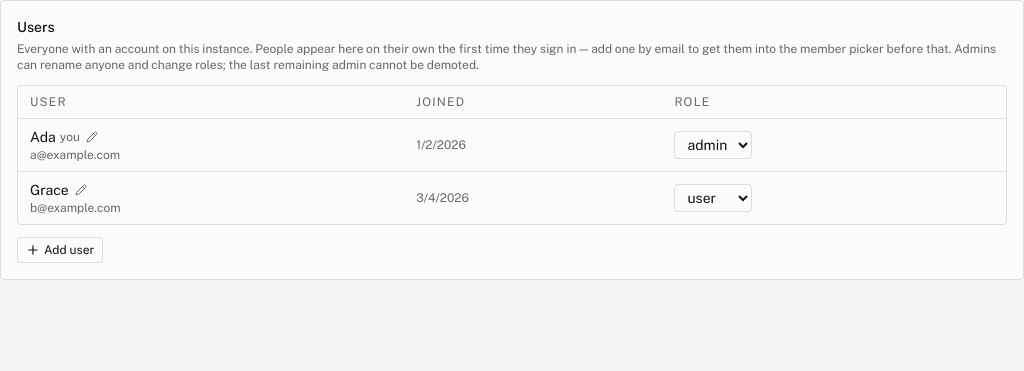
Test: adding a user › explains a duplicate address in plain language
Expected: the text "Ada" is shown, [30, 127, 56, 147]
Click the button "Add user" at coordinates (60, 250), box [17, 237, 103, 263]
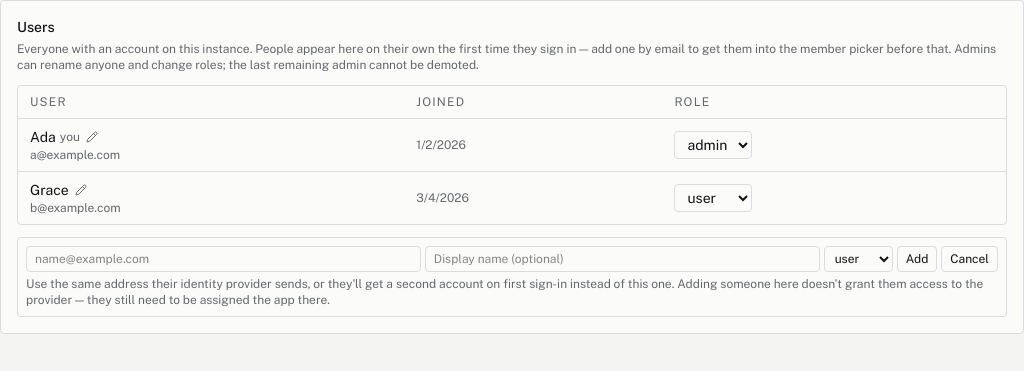
Type "b@example.com" into the field named "email address for the new user" at coordinates (223, 259), box [26, 246, 421, 272]
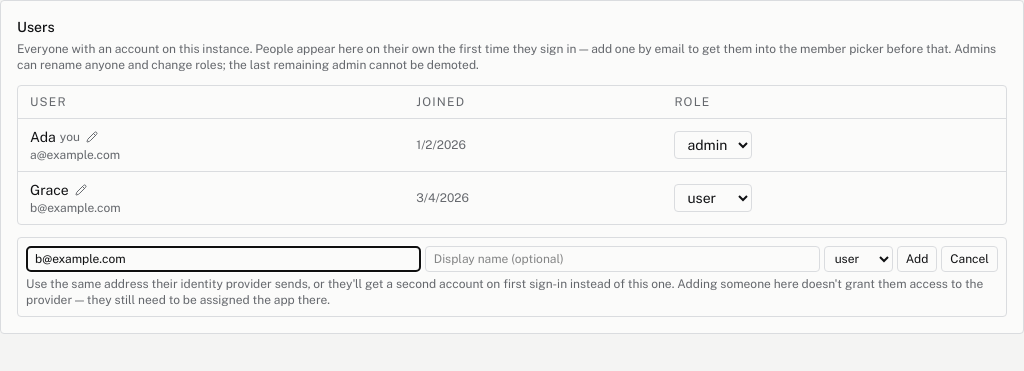
Click the button "Add" at coordinates (917, 259), box [897, 246, 937, 272]
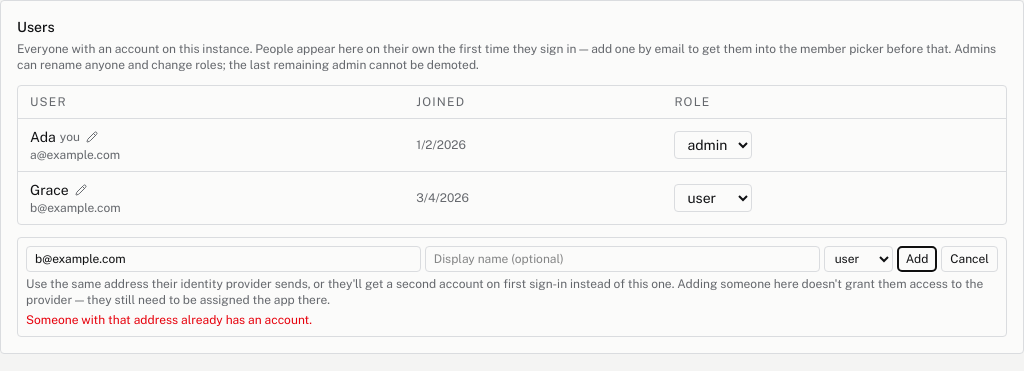
Expected: the message shows "already has an account", [26, 313, 312, 327]
